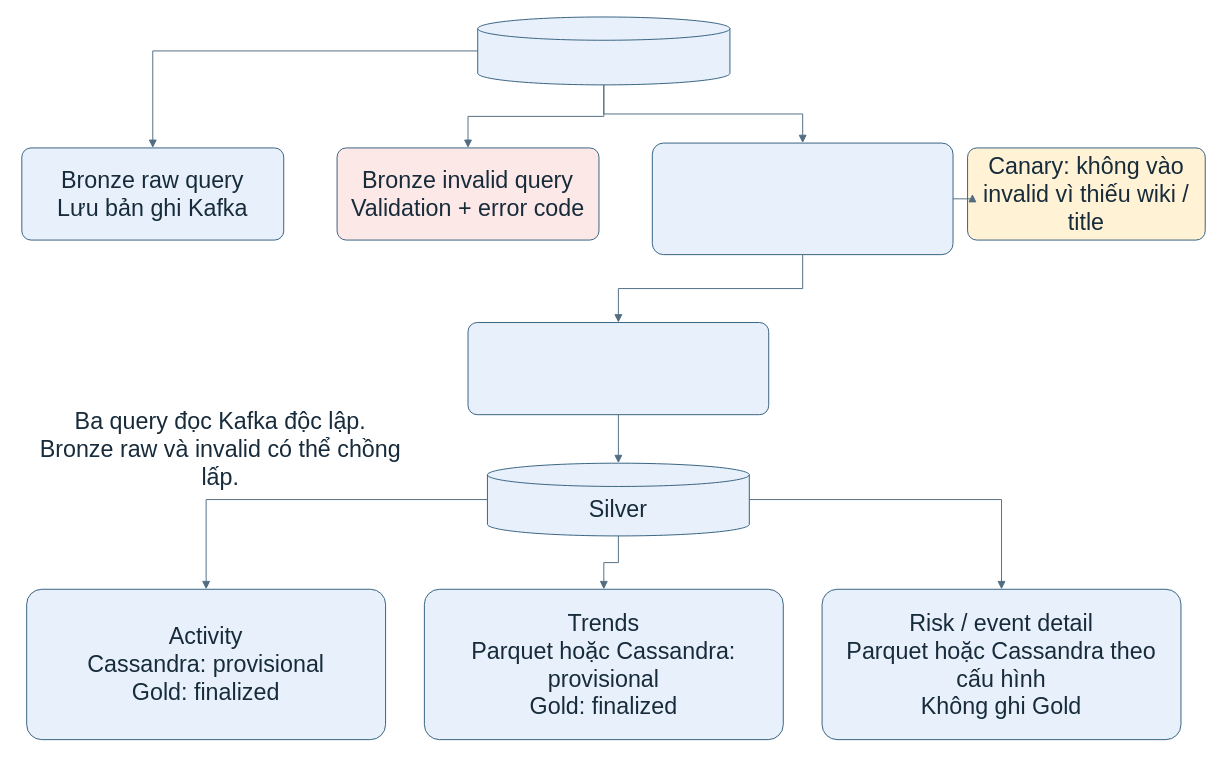
Some shapes in this 1222 by 757 pixel diagram are drawn without their labels. The centre of each missing label's shape, as x and y in pixels:
Deduplication theo event ID trong phạm vi watermark: (618,368)
Kafka raw topic: (603,50)
Silver query Validation + allowlist + canary filter + normalization: (802,198)
